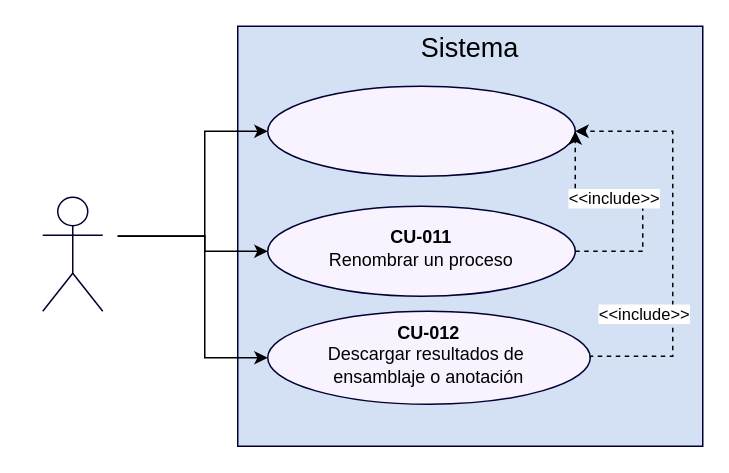
This 729x473 diagram has some shape labels left out. The shapes that lost their labels are listed below. From the top down, each one's centre as x and y in pixels, then its label:
the point at 420,130: CU-010 Listar procesos
the point at 72,253: Usuario
